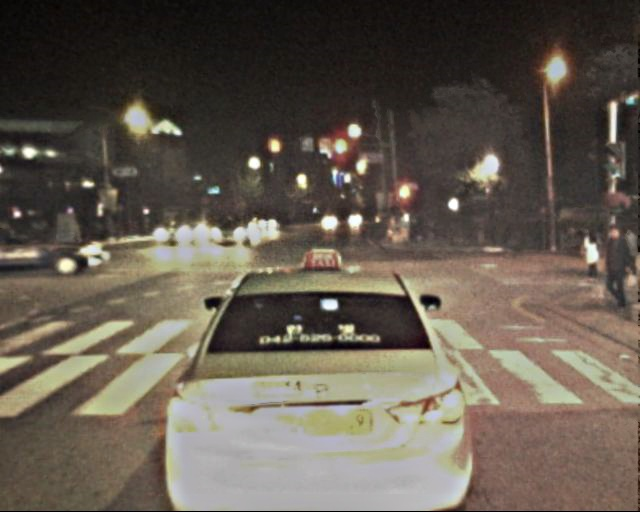person: (601, 229, 634, 313), (617, 227, 639, 285), (580, 228, 602, 281), (410, 217, 440, 244)
